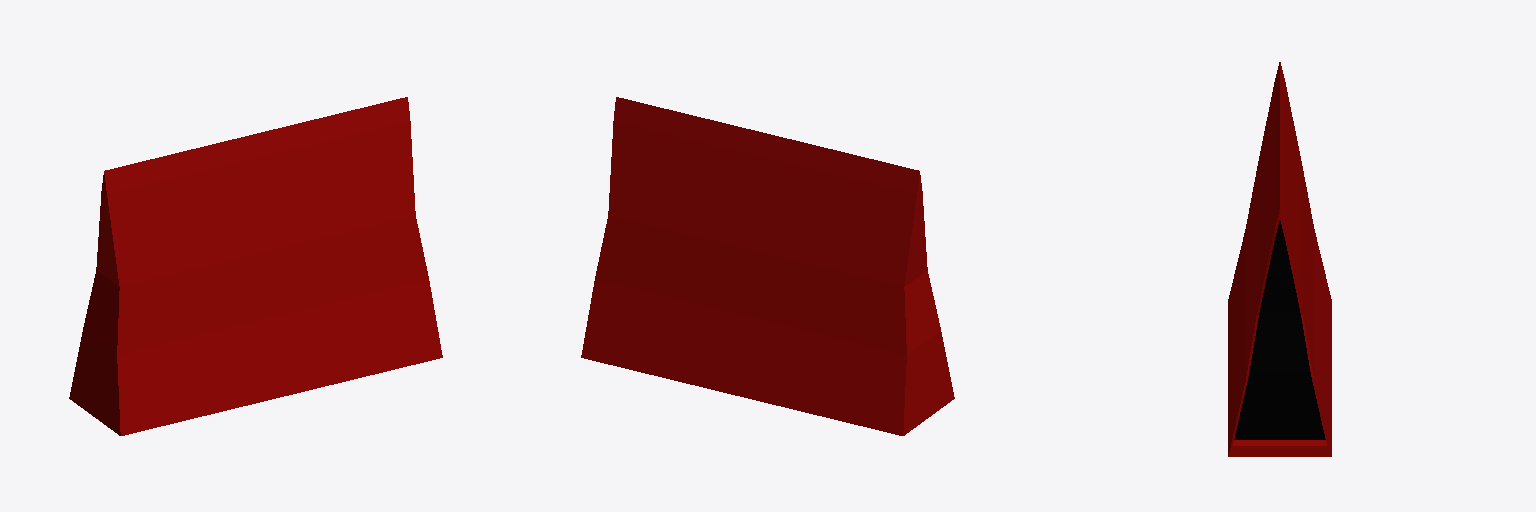
File: Tent.obj
3 renders of one model, left to right at view 1: azimuth 30°, elevation 25°; view 2: azimuth 150°, elevation 25°; view 3: azimuth 270°, elevation 25°, orthographic.
Visible parts, largest first — view 1: Cube.012_Cube.026; view 2: Cube.012_Cube.026; view 3: Cube.012_Cube.026.
Boxes of the visible parts, box(x1,y1,x2,y2) form: Cube.012_Cube.026: box(69, 97, 442, 435); Cube.012_Cube.026: box(581, 97, 954, 435); Cube.012_Cube.026: box(1228, 62, 1331, 456).
Bounding box in the file's own units: 7.64 × 5.54 × 2.12.